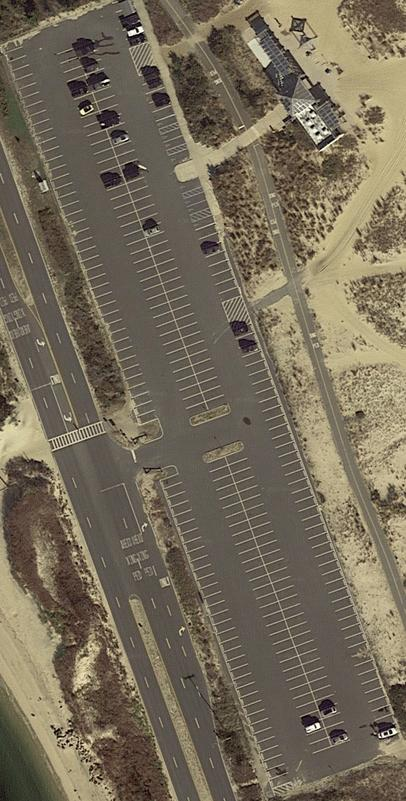parkingspot: (230, 322, 401, 742), (1, 37, 160, 427), (54, 46, 210, 420), (75, 39, 230, 412), (159, 473, 294, 791), (203, 455, 333, 756), (224, 448, 353, 748), (190, 214, 242, 305), (136, 68, 179, 132), (110, 0, 149, 50), (181, 191, 211, 217), (158, 126, 187, 152), (166, 147, 193, 169), (176, 175, 204, 196)
